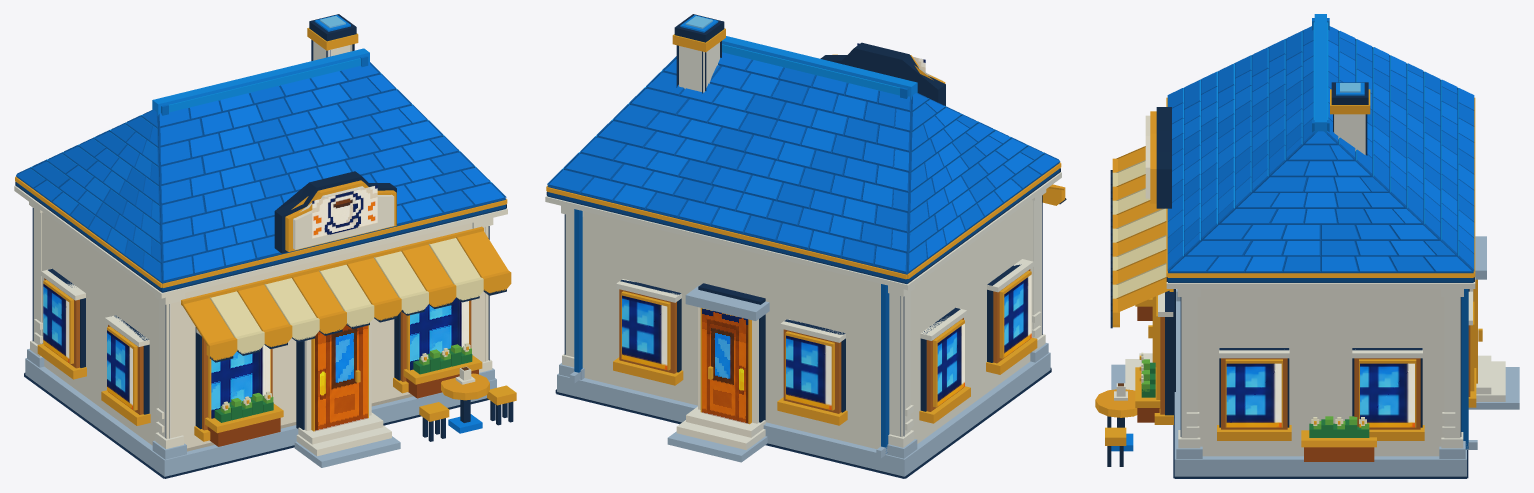
The picture shows the model from 3 angles, left to right: view 1: azimuth 30°, elevation 25°; view 2: azimuth 150°, elevation 25°; view 3: azimuth 270°, elevation 25°; orthographic projection. The views are drawn at different scales.
Visible parts, largest first — view 1: B16 咖啡馆; view 2: B16 咖啡馆; view 3: B16 咖啡馆.
Part boxes in pixels (<box>): B16 咖啡馆: <box>14,14,516,478</box>; B16 咖啡馆: <box>545,14,1066,478</box>; B16 咖啡馆: <box>1095,14,1519,478</box>.
Bounding box in the file's own units: 7.01 × 6.33 × 6.95.
2 materials, 1 textured.
